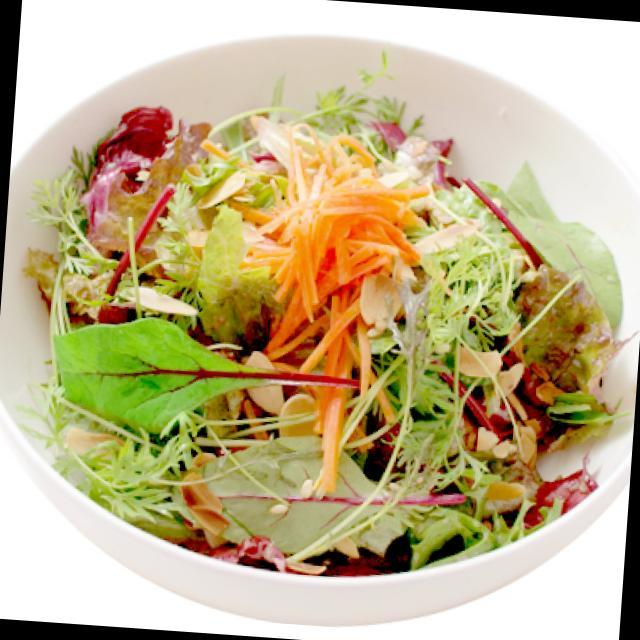Green Salad: (21, 90, 626, 553)
